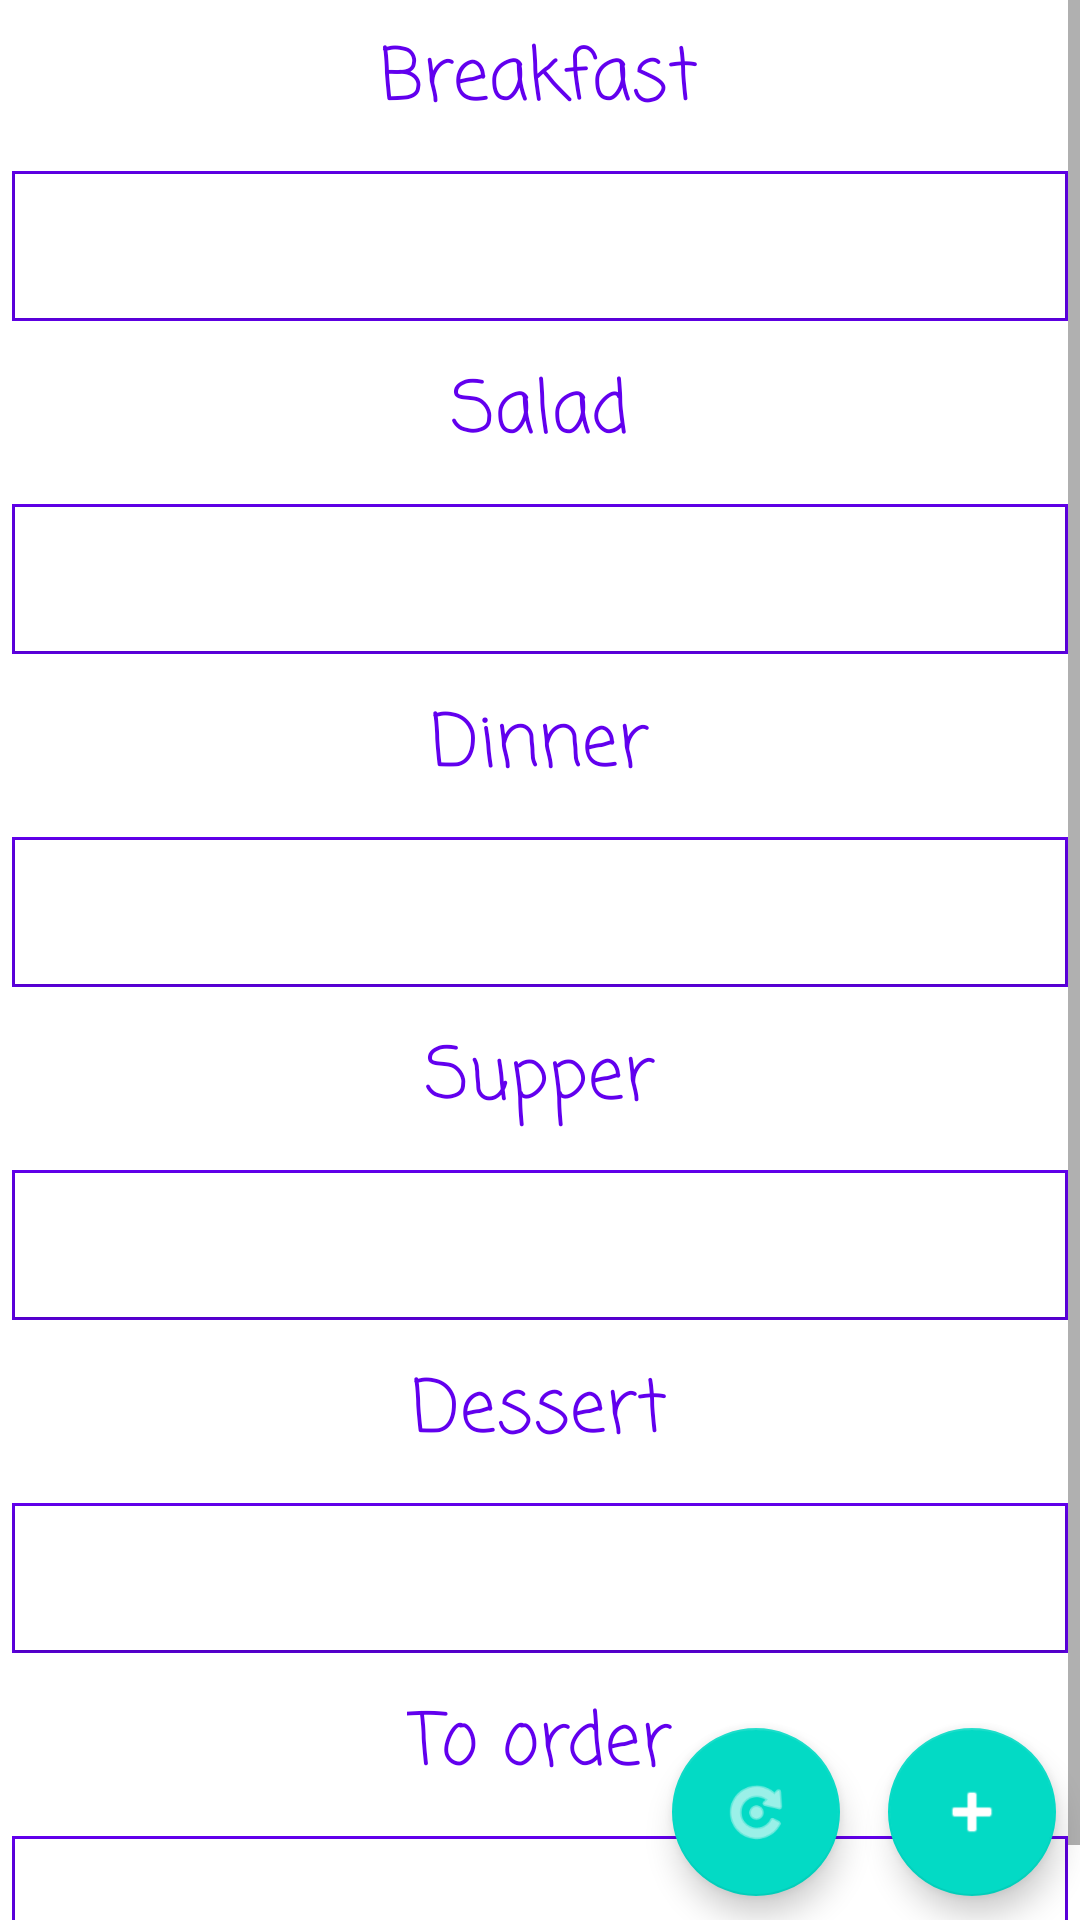

Screen size 1080x1920. Icon name, then its box in pixels as (x1, y1, x2, y2):
ADD: (888, 1728, 1056, 1896)
REFRESH: (672, 1728, 840, 1896)
